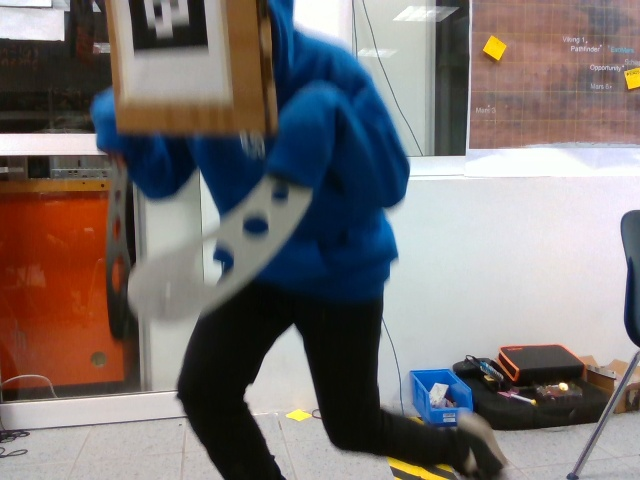ar3: (122, 2, 213, 93)
